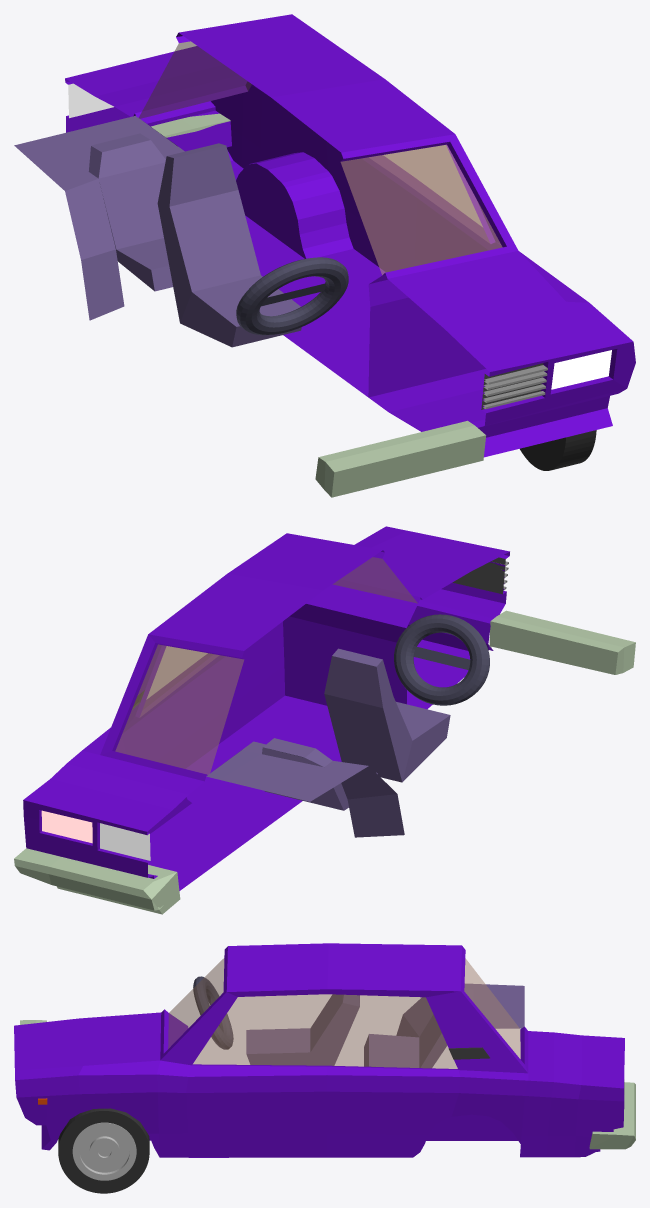
The model's file is basico.glb.
The picture shows the model from 3 angles, top to bottom: view 1: azimuth 30°, elevation 25°; view 2: azimuth 150°, elevation 25°; view 3: azimuth 270°, elevation 25°; orthographic projection. The views are drawn at different scales.
Visible parts, largest first — view 1: Main, Inside, Plane, Torus, Whiles; view 2: Main, Inside, Plane, Torus; view 3: Main, Inside, Whiles, Disks, Plane, Torus.
Part boxes in pixels (x1,y1,x2,y2): Main: (65,14,635,457); Inside: (14,115,301,347); Plane: (151,113,486,497); Torus: (236,257,348,335); Whiles: (520,430,596,470); Main: (23,526,509,890); Inside: (206,648,450,837); Plane: (14,610,635,914); Torus: (394,614,489,705); Main: (14,943,624,1157); Inside: (246,983,524,1068); Whiles: (58,1108,149,1193); Disks: (72,1122,136,1180); Plane: (20,1020,635,1149); Torus: (193,976,233,1049).
Size of what is drawn, in the model's own units: 3.52 by 3.14 by 8.77.
